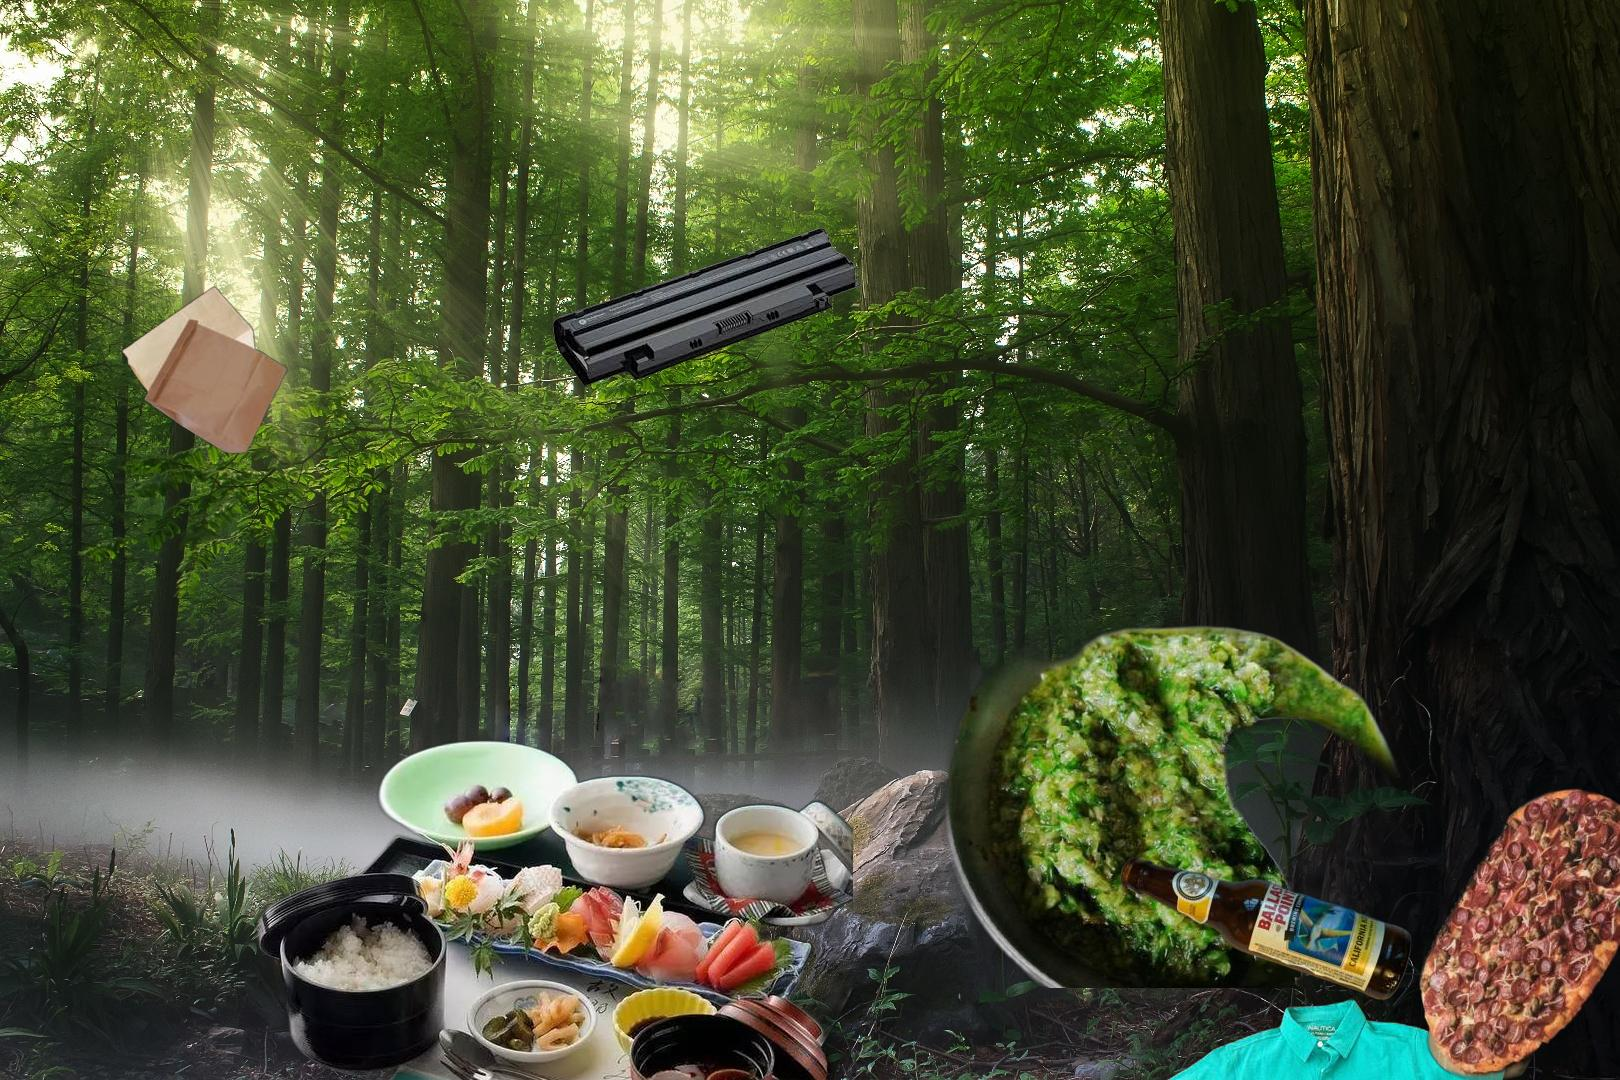battery: (552, 225, 863, 388)
biological: (937, 577, 1466, 988), (256, 738, 853, 1080)
clothes: (1131, 939, 1513, 1080)
glass: (1116, 855, 1416, 1003)
paper: (1380, 742, 1620, 1080)
paper-bag: (119, 284, 290, 454)
